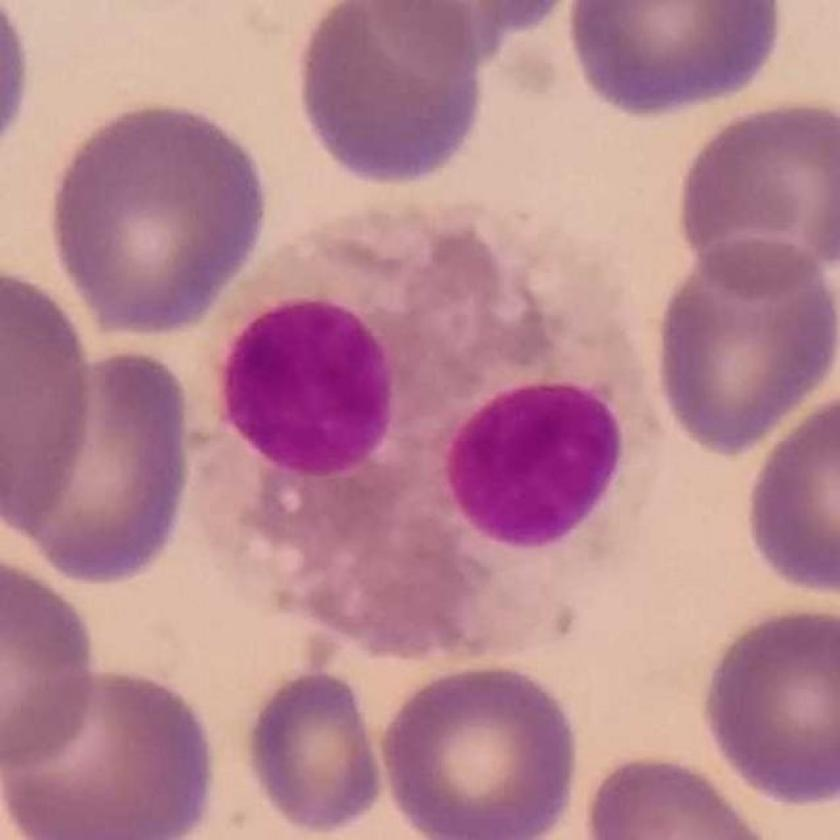eosinophil: (180, 176, 684, 668)
